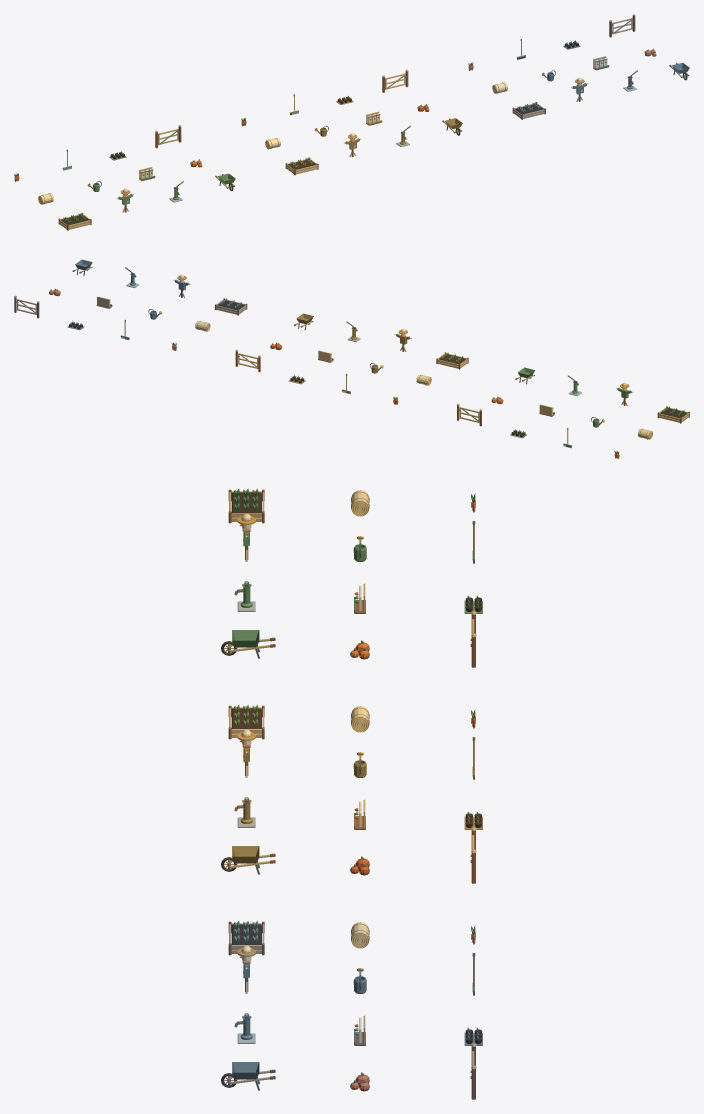
Rendered from harvest-homestead-native.glb.
3 views of the same model, one above another, from view 1: azimuth 30°, elevation 25°; view 2: azimuth 150°, elevation 25°; view 3: azimuth 270°, elevation 25° (orthographic). The views are drawn at different scales.
Parts seen in each view (by area): view 1: Warm__01_Raised_Garden_Bed__Body, Classic__01_Raised_Garden_Bed__Body, Twilight__01_Raised_Garden_Bed__Body; view 2: Twilight__01_Raised_Garden_Bed__Body, Warm__01_Raised_Garden_Bed__Body, Classic__01_Raised_Garden_Bed__Body; view 3: Twilight__01_Raised_Garden_Bed__Body, Warm__01_Raised_Garden_Bed__Body, Classic__01_Raised_Garden_Bed__Body.
Part boxes in pixels (<box>): Warm__01_Raised_Garden_Bed__Body: <box>285,157,318,175</box>; Classic__01_Raised_Garden_Bed__Body: <box>58,213,91,230</box>; Twilight__01_Raised_Garden_Bed__Body: <box>512,102,545,119</box>; Twilight__01_Raised_Garden_Bed__Body: <box>215,298,247,315</box>; Warm__01_Raised_Garden_Bed__Body: <box>436,352,468,369</box>; Classic__01_Raised_Garden_Bed__Body: <box>657,406,689,423</box>; Twilight__01_Raised_Garden_Bed__Body: <box>228,920,264,955</box>; Warm__01_Raised_Garden_Bed__Body: <box>228,704,264,739</box>; Classic__01_Raised_Garden_Bed__Body: <box>228,488,264,523</box>.
Bounding box in the file's own units: 99.98 × 3.53 × 18.47.
Materials: 3 (3 with a texture image).
